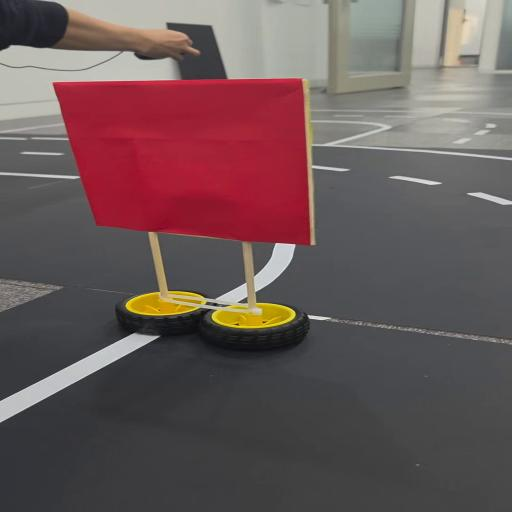Sign_A: (41, 77, 346, 356)
